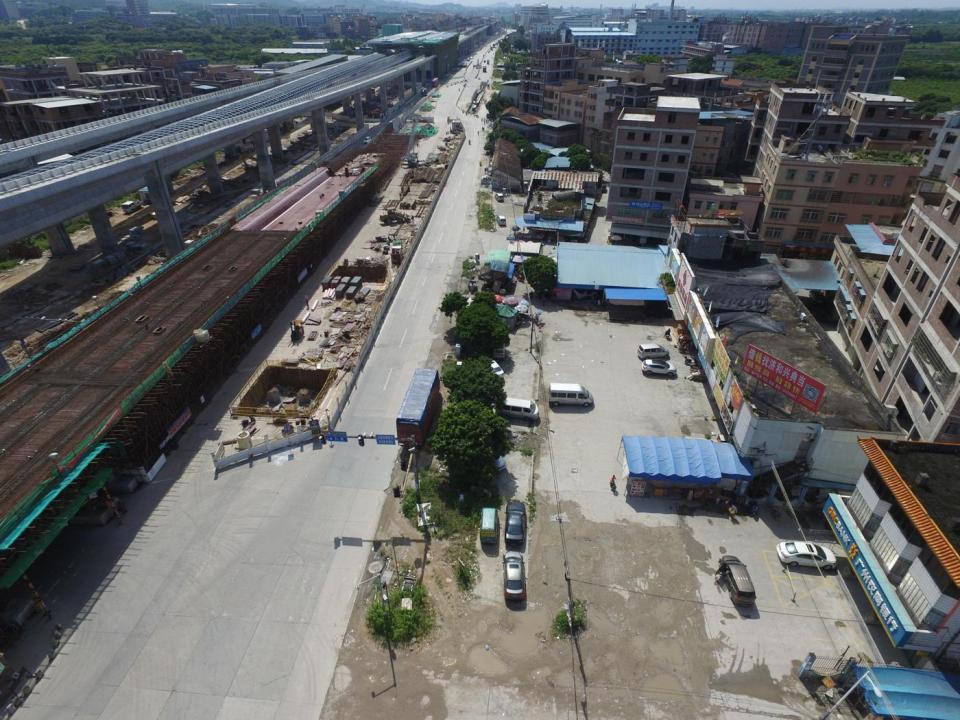car: (776, 540, 837, 572), (502, 551, 527, 600), (475, 442, 507, 475), (504, 501, 526, 546), (642, 358, 676, 375), (497, 216, 506, 225), (494, 193, 503, 201), (363, 136, 370, 144)
truck: (397, 366, 442, 446), (121, 200, 144, 212), (431, 77, 439, 88), (421, 88, 428, 96)
van: (714, 556, 756, 608), (549, 383, 595, 409), (499, 396, 541, 421), (481, 507, 500, 543), (638, 344, 670, 361), (493, 342, 505, 361), (489, 361, 503, 377)
